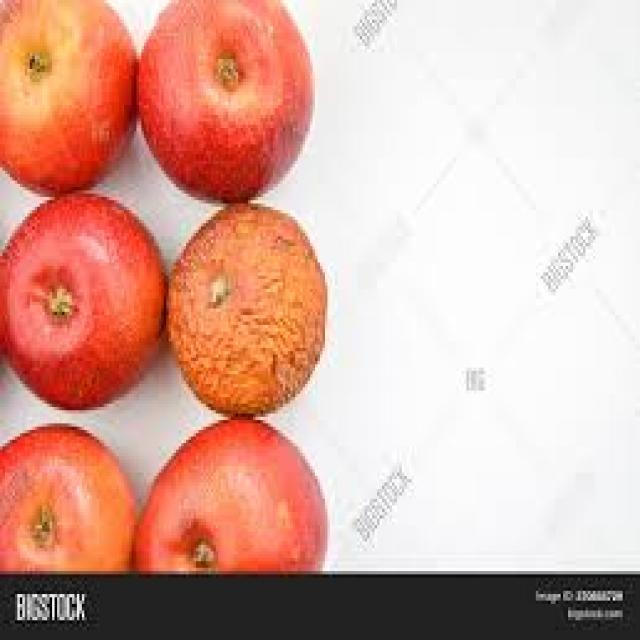organic waste: (0, 187, 161, 410), (134, 0, 310, 203), (164, 197, 322, 413), (129, 414, 325, 571), (0, 0, 136, 190), (0, 420, 134, 565)
